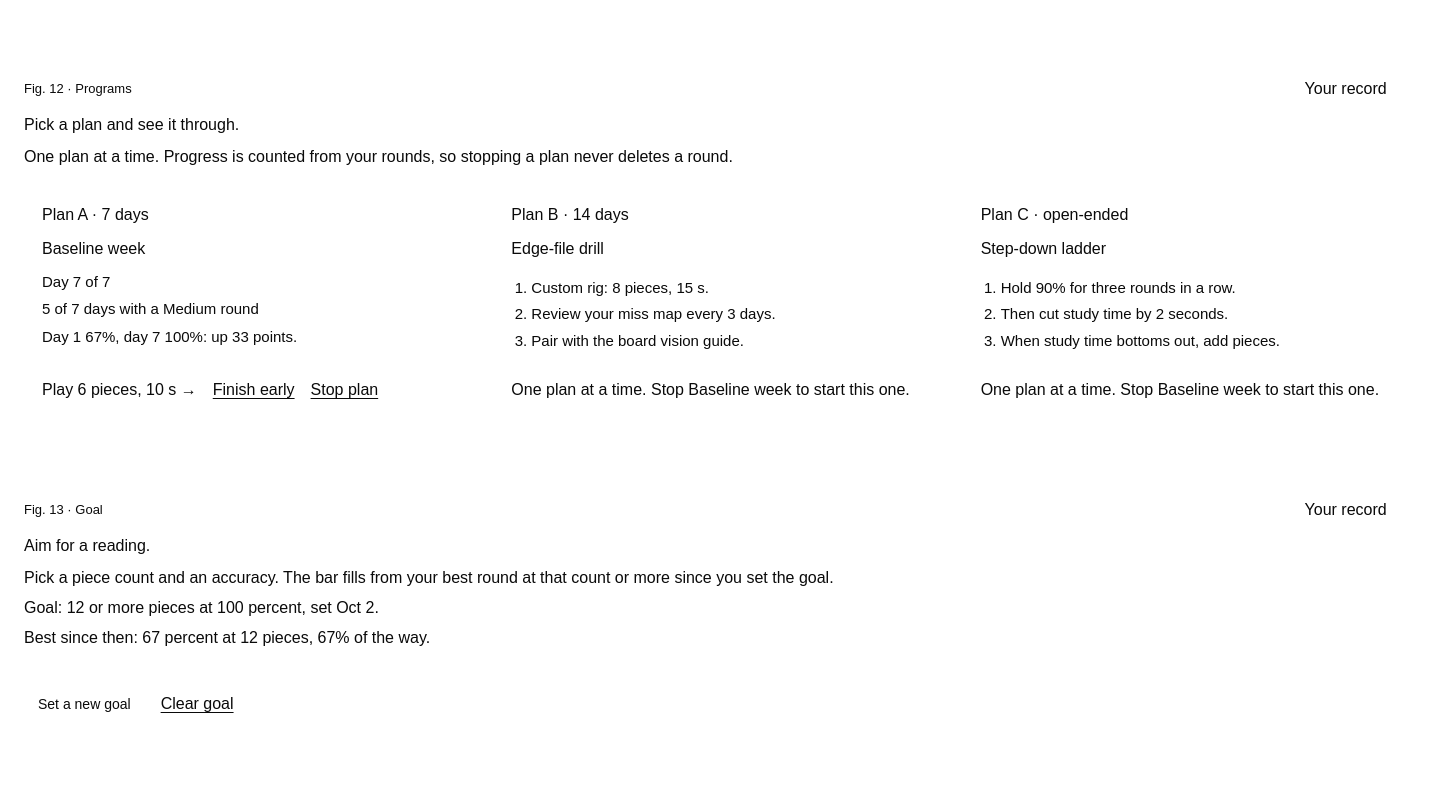
Scenario: starting and stopping a plan › stops a plan only on the second press, which keeps the day it stopped and touches no round
(page scrolled)
Click the button "Stop plan".
click(344, 390)  # box x1=311 y1=378 x2=378 y2=402
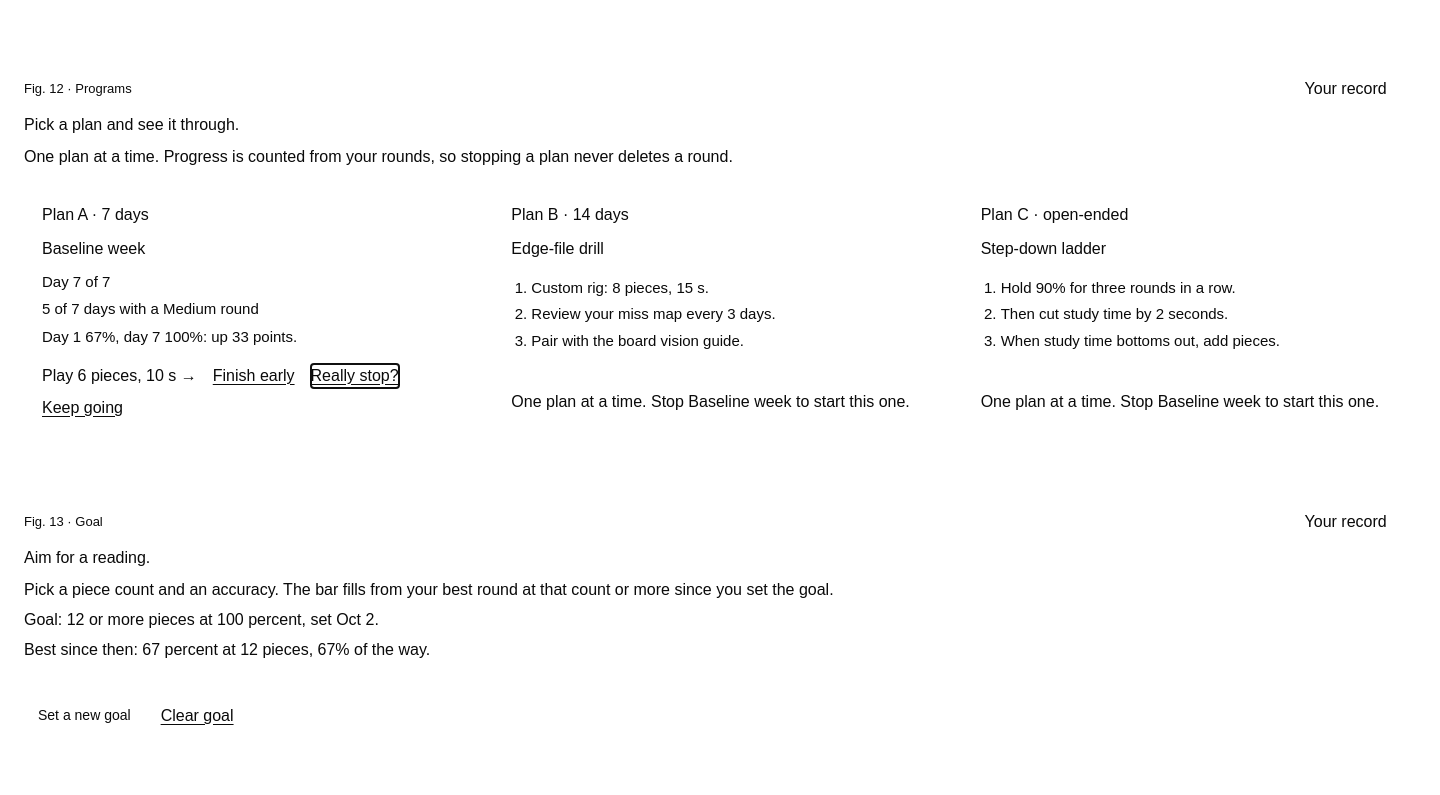
Click the button "Keep going".
click(82, 408)  # box x1=42 y1=396 x2=123 y2=420
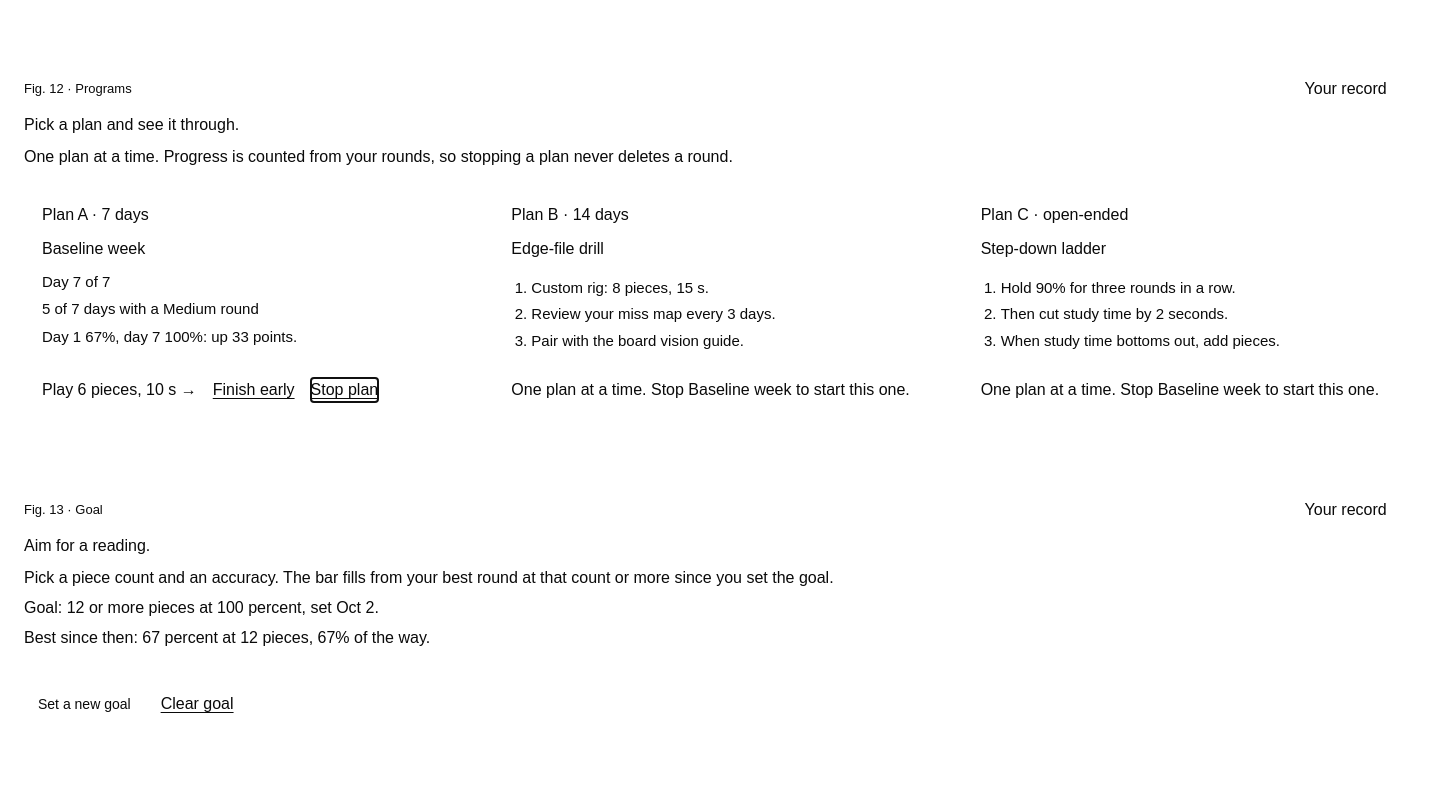
Click the button "Stop plan".
click(344, 390)  # box x1=311 y1=378 x2=378 y2=402
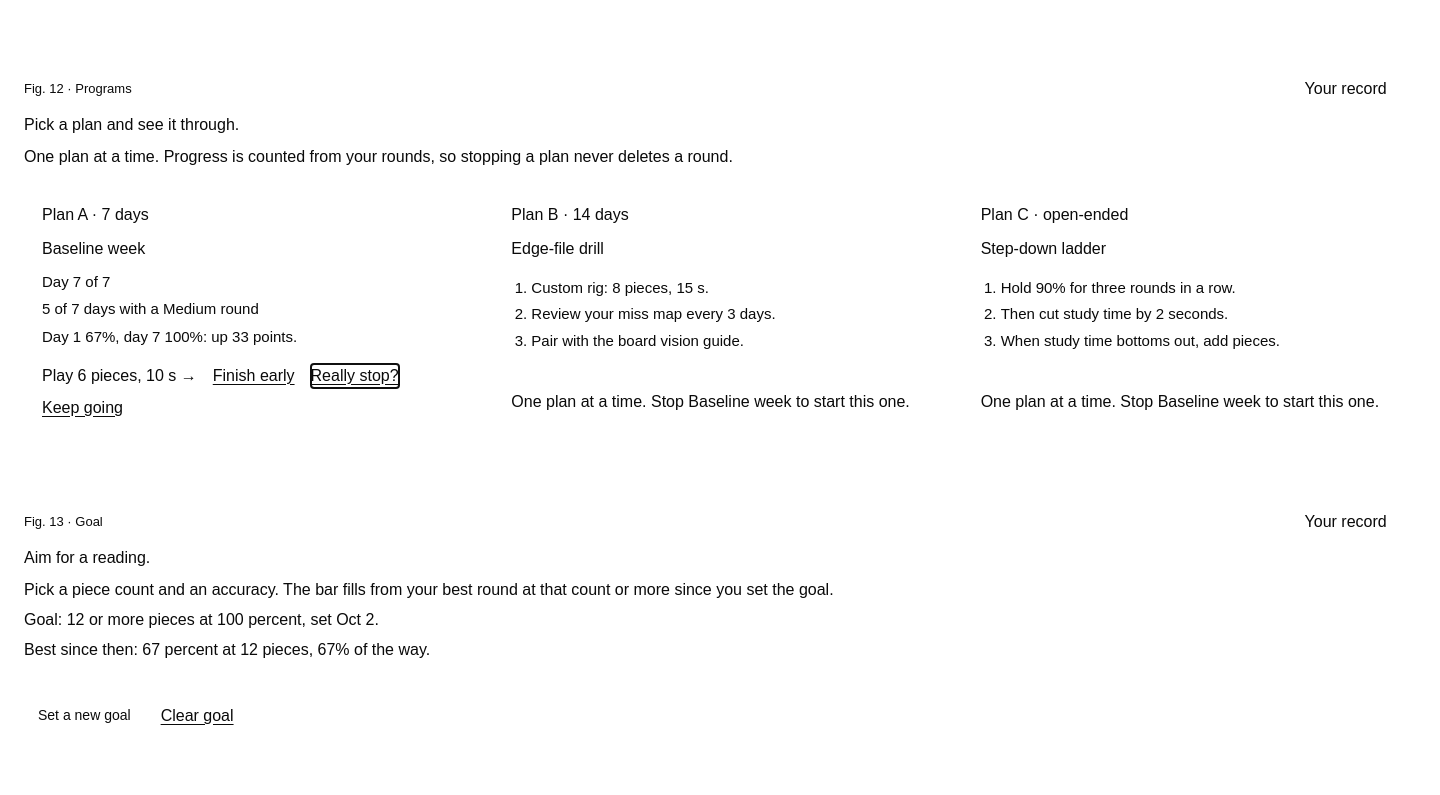
Click the button "Really stop?".
click(355, 376)  # box x1=311 y1=364 x2=399 y2=388
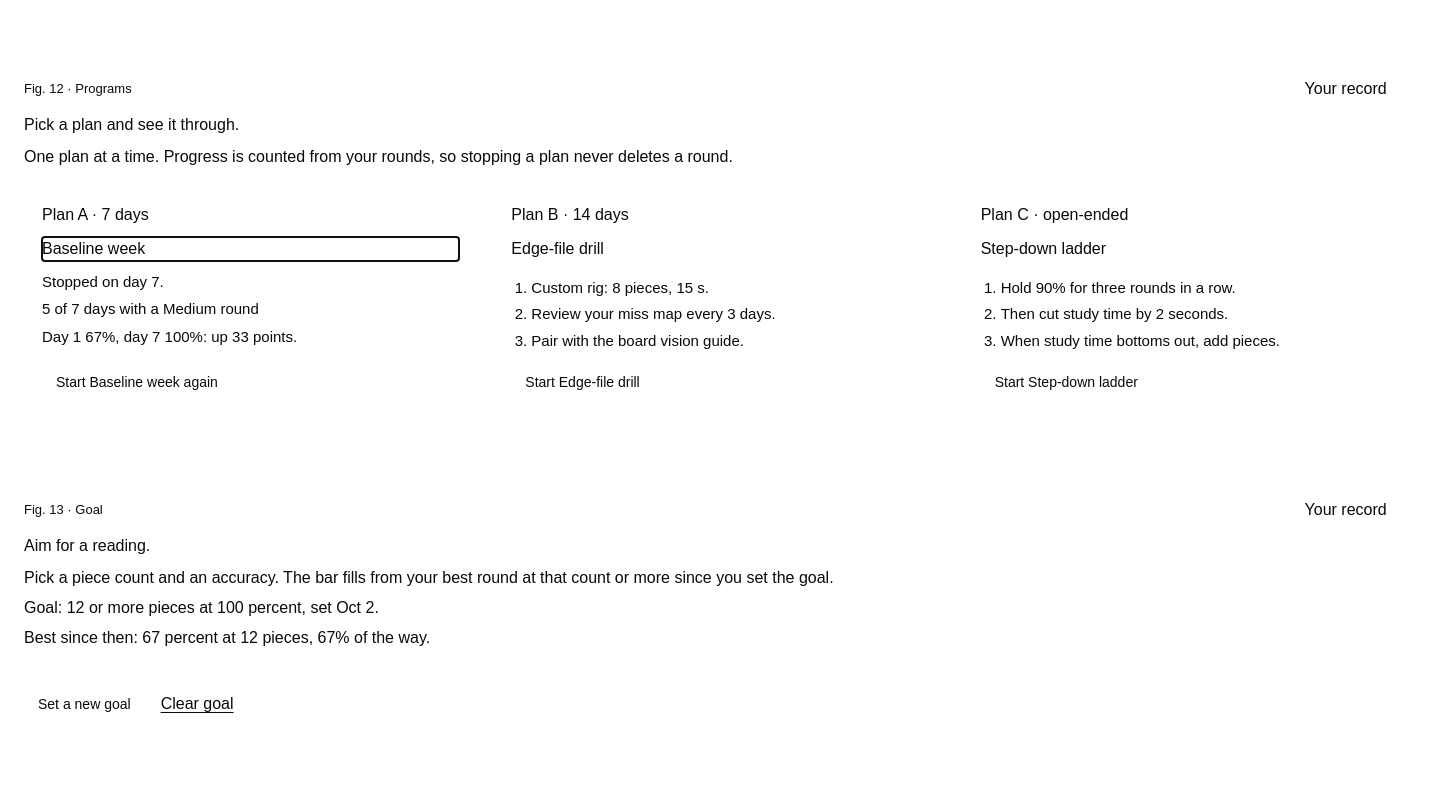
Check: the text "Stopped on day 7." is shown, box x1=42 y1=272 x2=164 y2=290
Check: the link "Start Baseline week again" is shown, box x1=56 y1=374 x2=218 y2=390
Check: the link "Start Edge-file drill" is shown, box x1=525 y1=374 x2=640 y2=390
